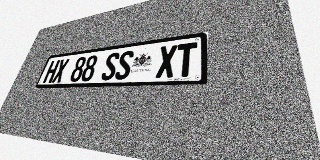8: (69, 56, 88, 82), (80, 55, 99, 81)
H: (42, 60, 60, 83)
S: (114, 50, 135, 80), (100, 52, 121, 81)
T: (175, 42, 197, 77)
X: (155, 44, 177, 78), (51, 59, 70, 83)
